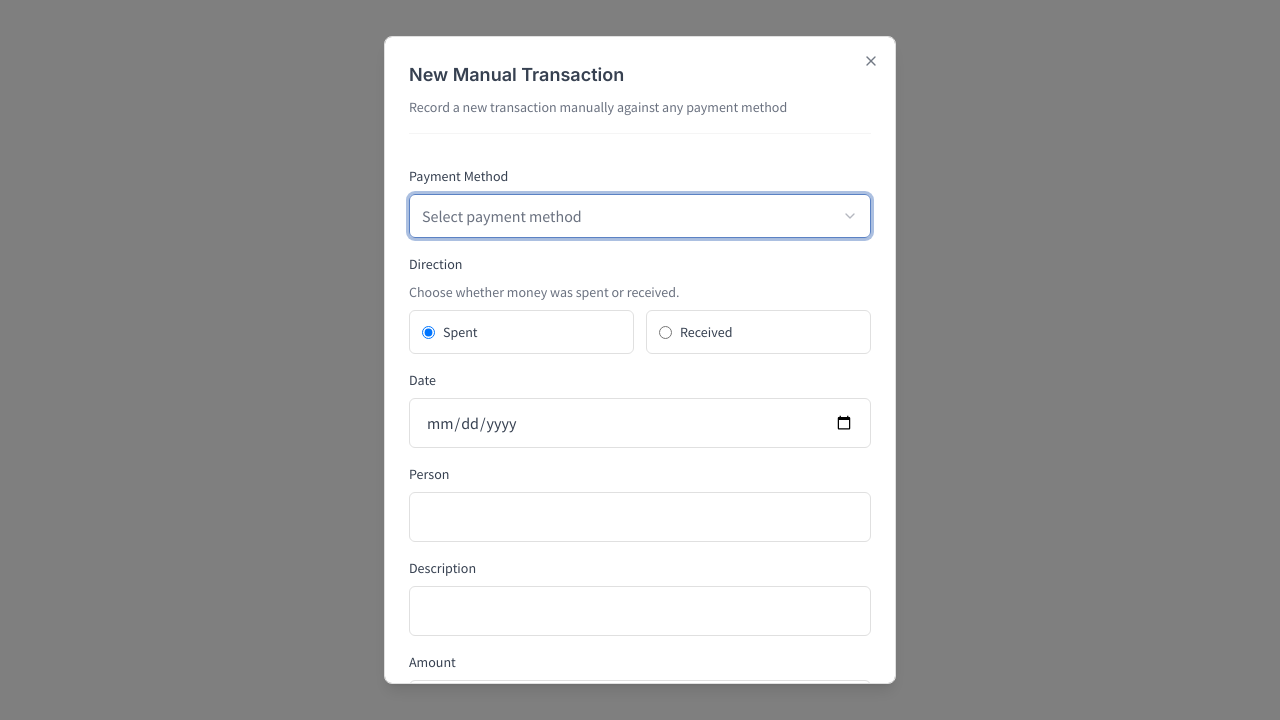
Test: CreateManualTransactionModal › Payment Method Selection › selecting a payment method updates the form
Click the dropdown at (502, 216), box [409,194,871,238]
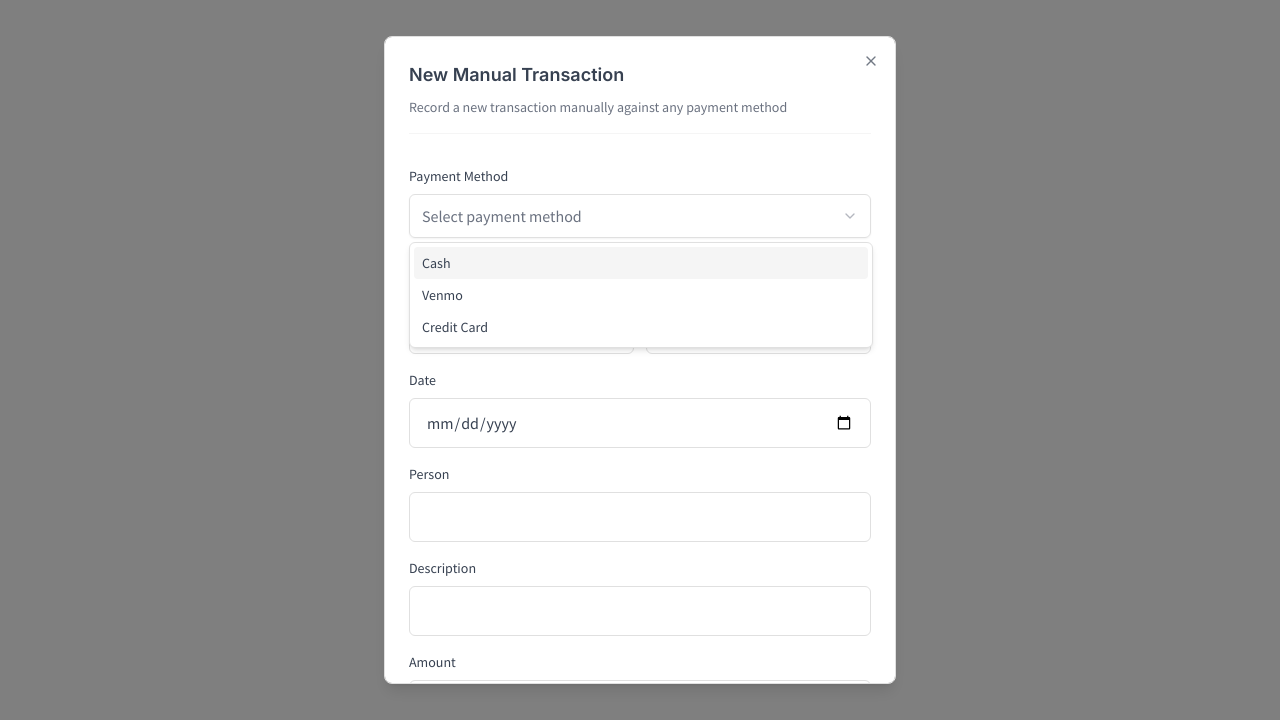
Click the option "Venmo" at (442, 295), box [422,286,463,304]
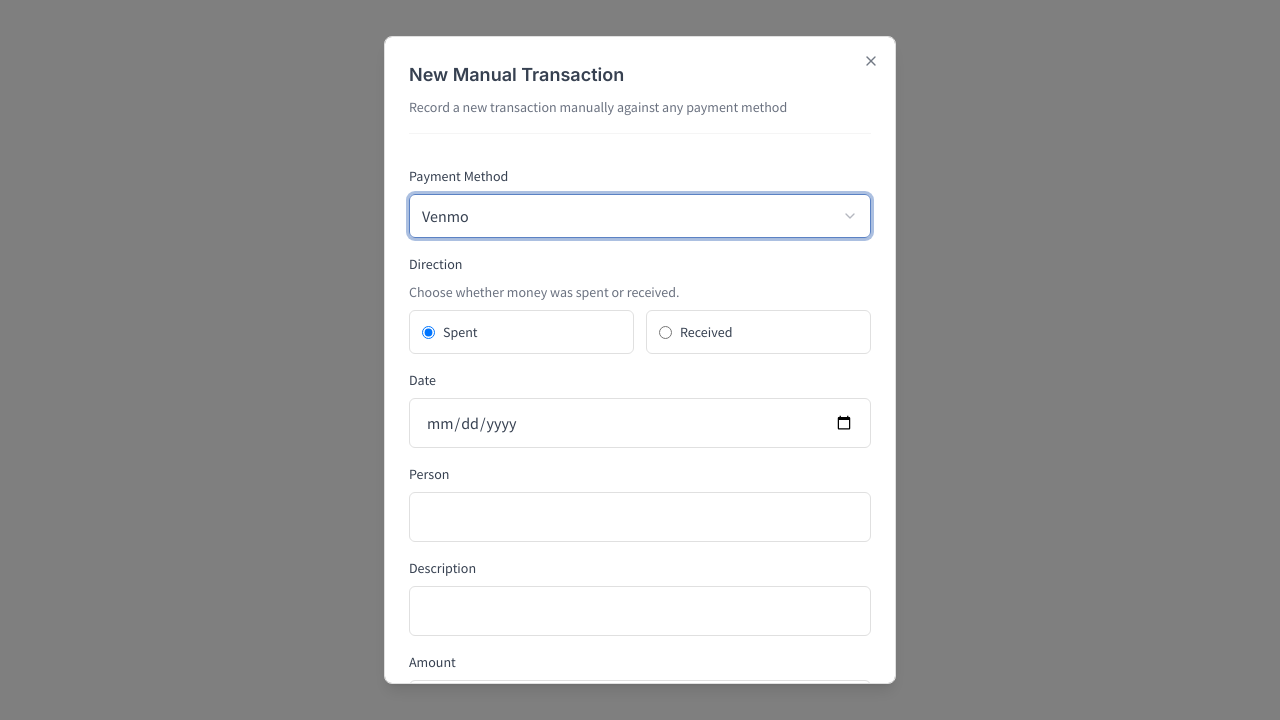
Expected: the dropdown reads "Venmo", [409,194,871,238]
